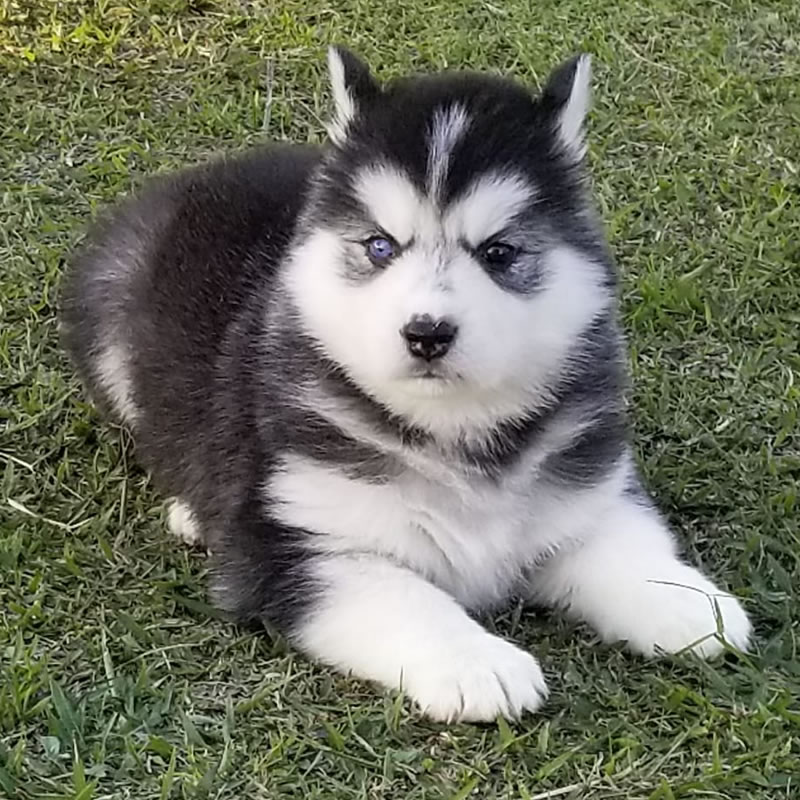husky: (183, 39, 645, 679)
